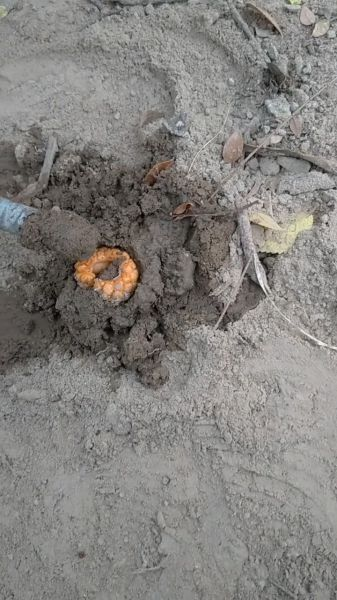eggs: (65, 240, 146, 311)
